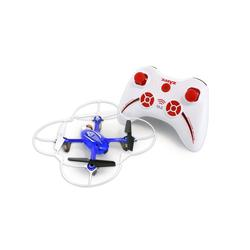drone: (32, 99, 158, 188)
